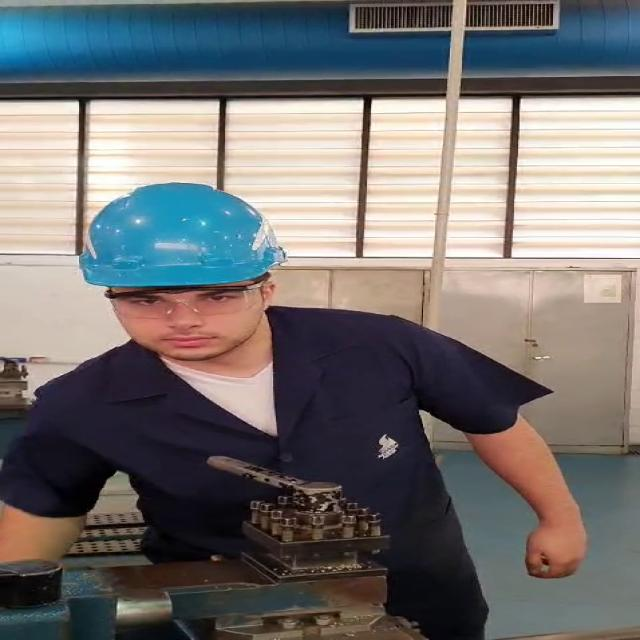oculos-epi: (104, 285, 261, 318)
